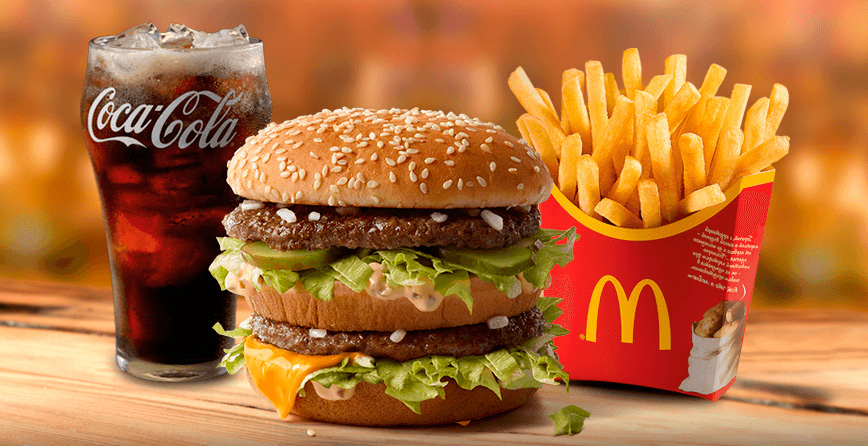mcdonalds: (559, 273, 686, 350)
